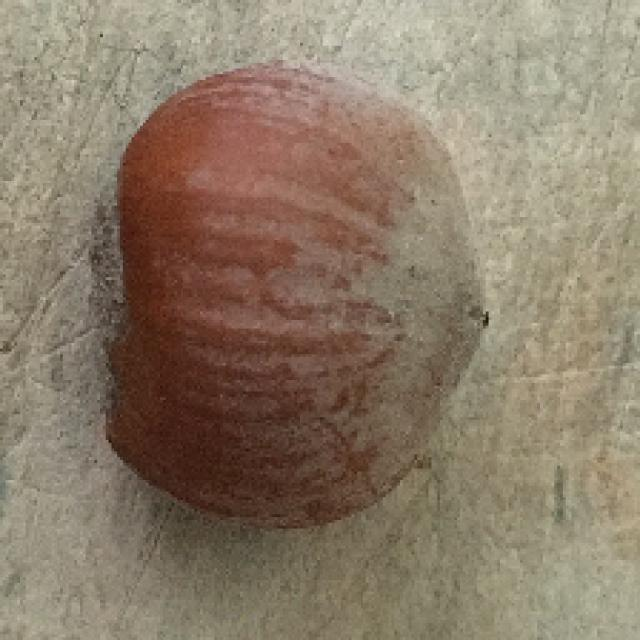qualityHazelnut: (92, 62, 491, 527)
